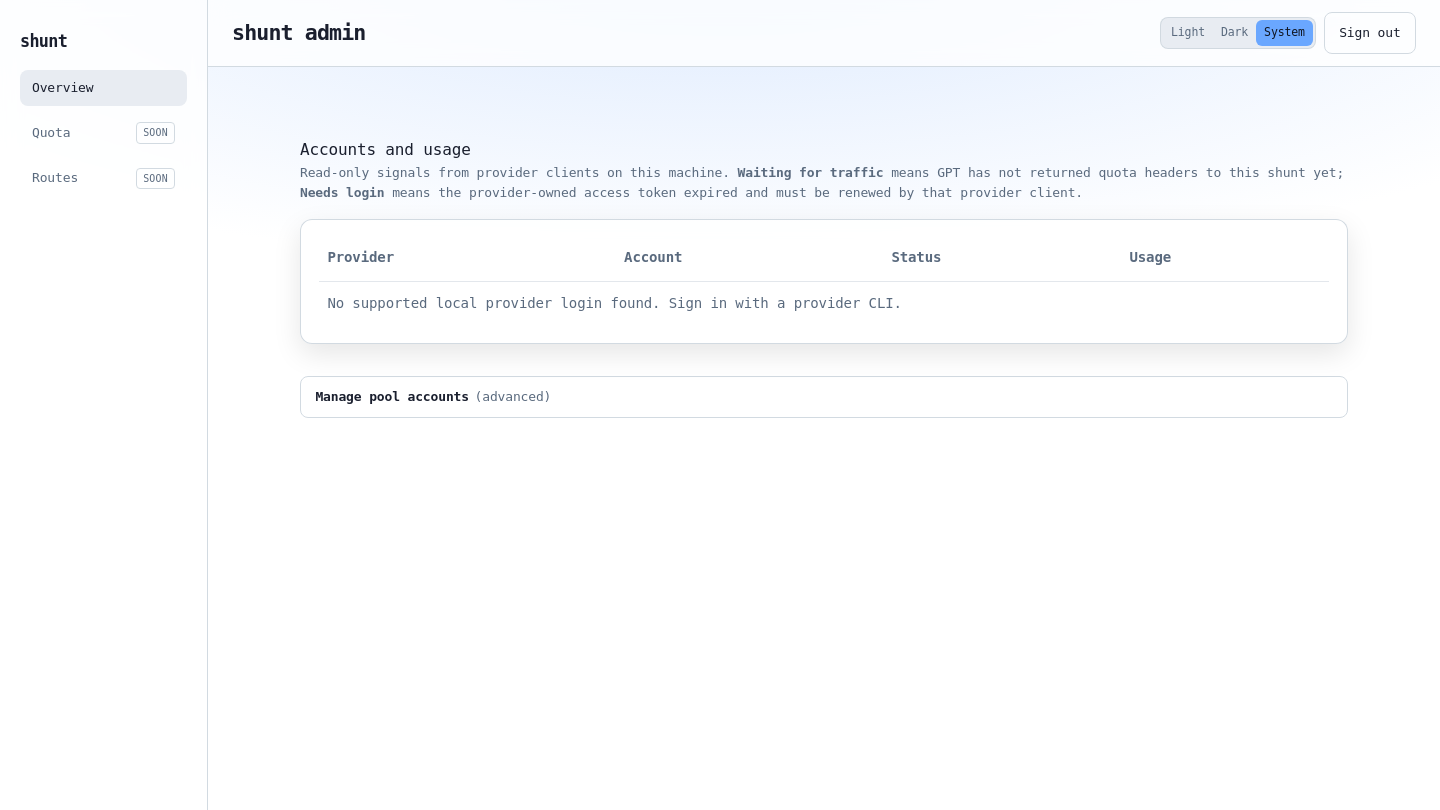
Test: the Antigravity account store table › reports who owns renewal, not the raw expiry
The image size is (1440, 810).
expect the heading "Accounts and usage" is shown: met, box [300,140,471,159]
What coordinates should you click on to do the following:
click the button "Manage pool accounts (advanced)"
I would click on:
 (392, 396)
Its box is [300,376,1348,418].
(page scrolled)
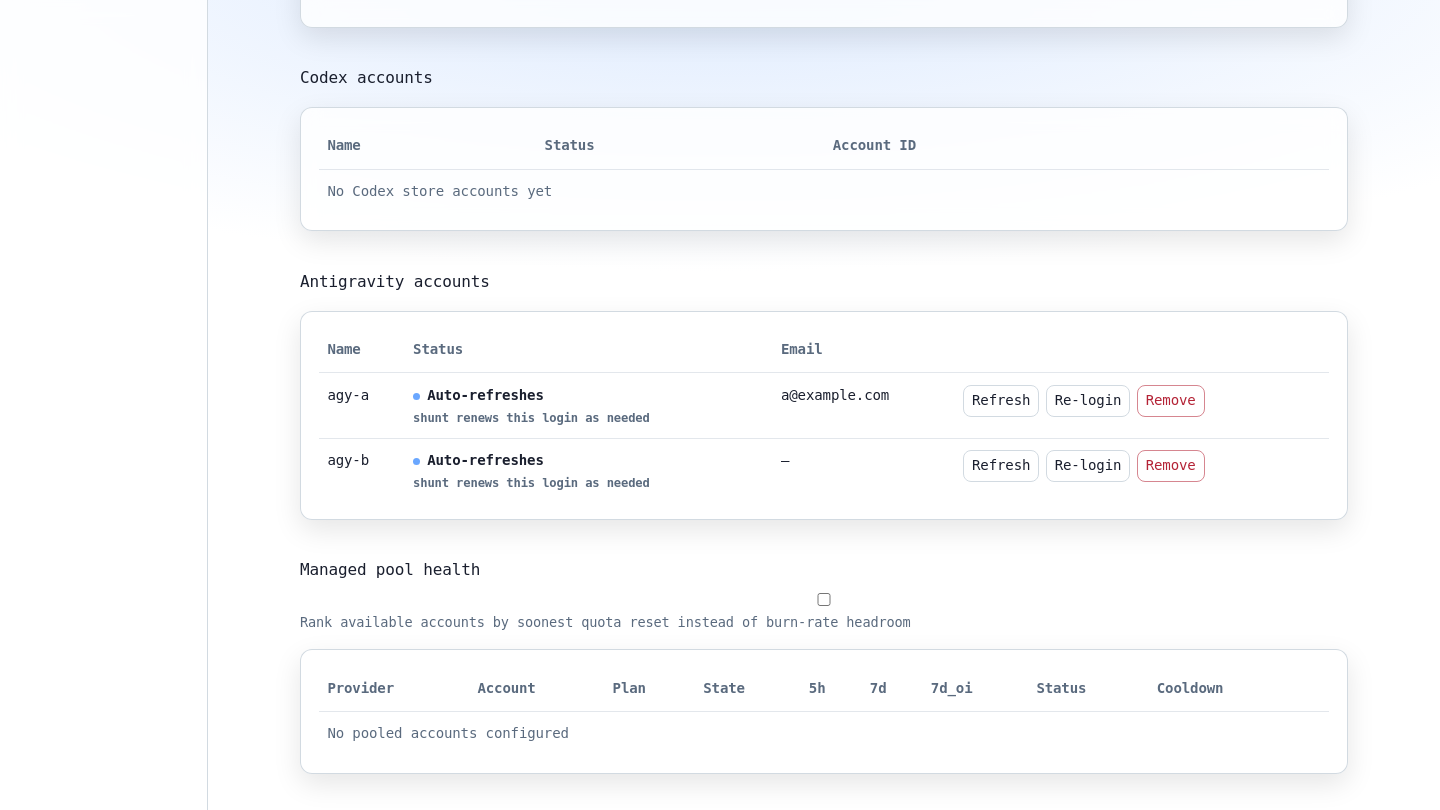
expect the cell with class "status" next to "agy-a" shows "Auto-refreshes": met, box [427,387,544,403]
expect the text "shunt renews this login as needed" below "agy-a" is shown: met, box [413,411,650,425]
expect the cell with class "status" next to "agy-b" shows "Auto-refreshes": met, box [427,452,544,468]
